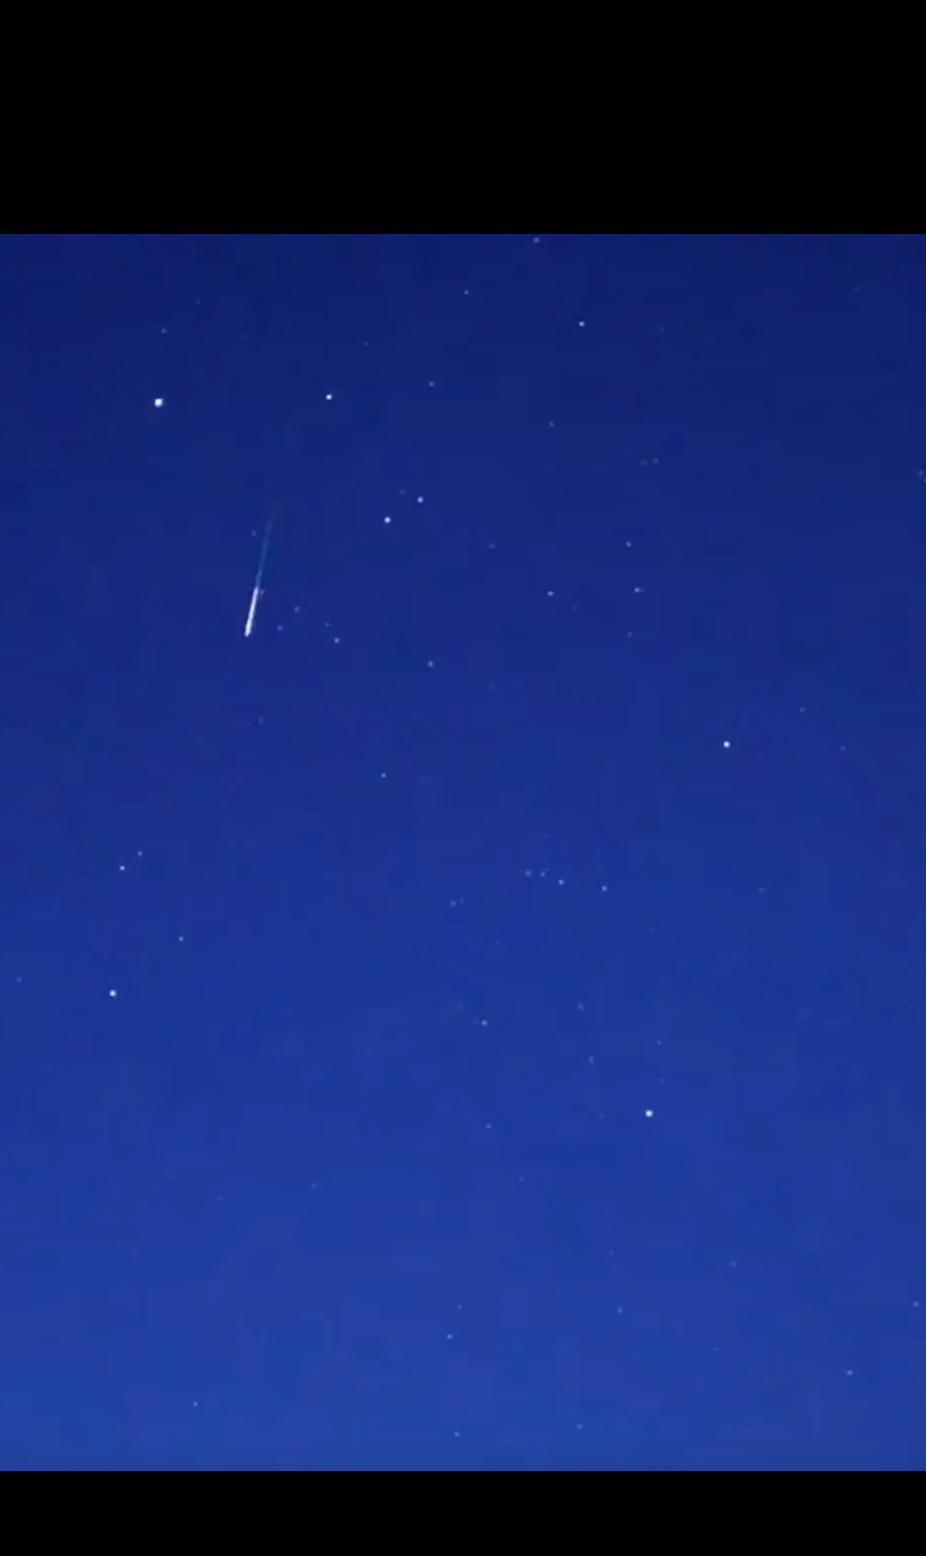meteorite: (223, 495, 301, 656)
